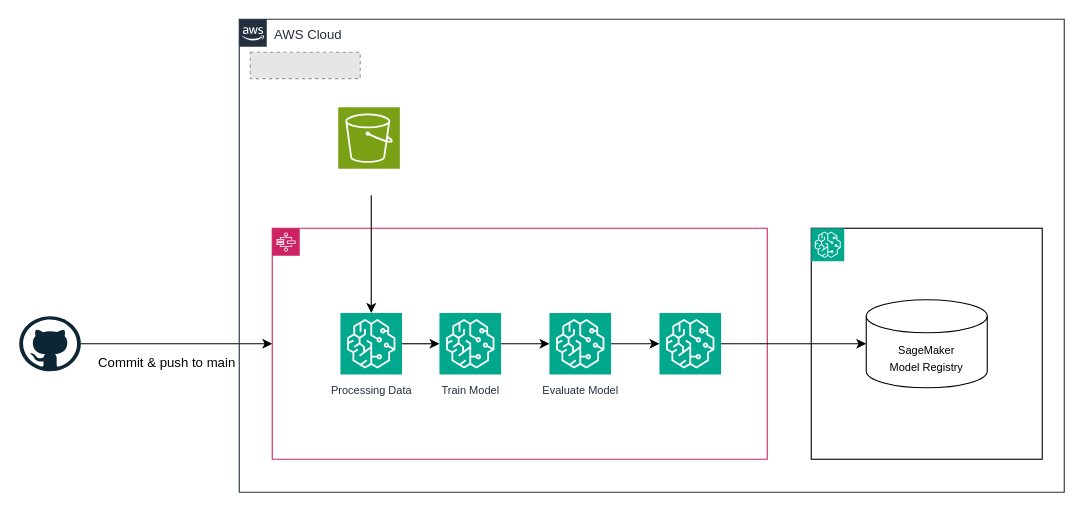
Some shapes in this 1084 by 512 pixel diagram are drawn without their labels. Grey dashed boxes stand in for pictures. The centre of each missing label's shape, as x and y in pixels:
Check Evaluation: the point at 689,343
Github: the point at 49,343
S3: the point at 368,137
